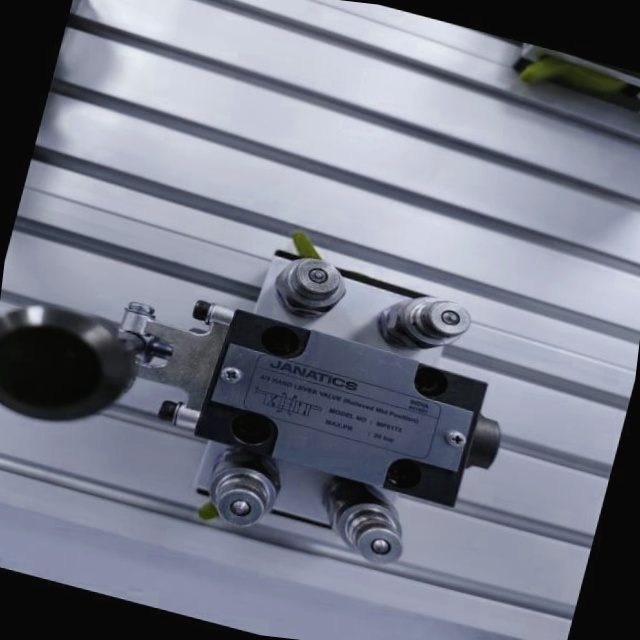4by3 hand lever valve: (0, 151, 558, 611)
